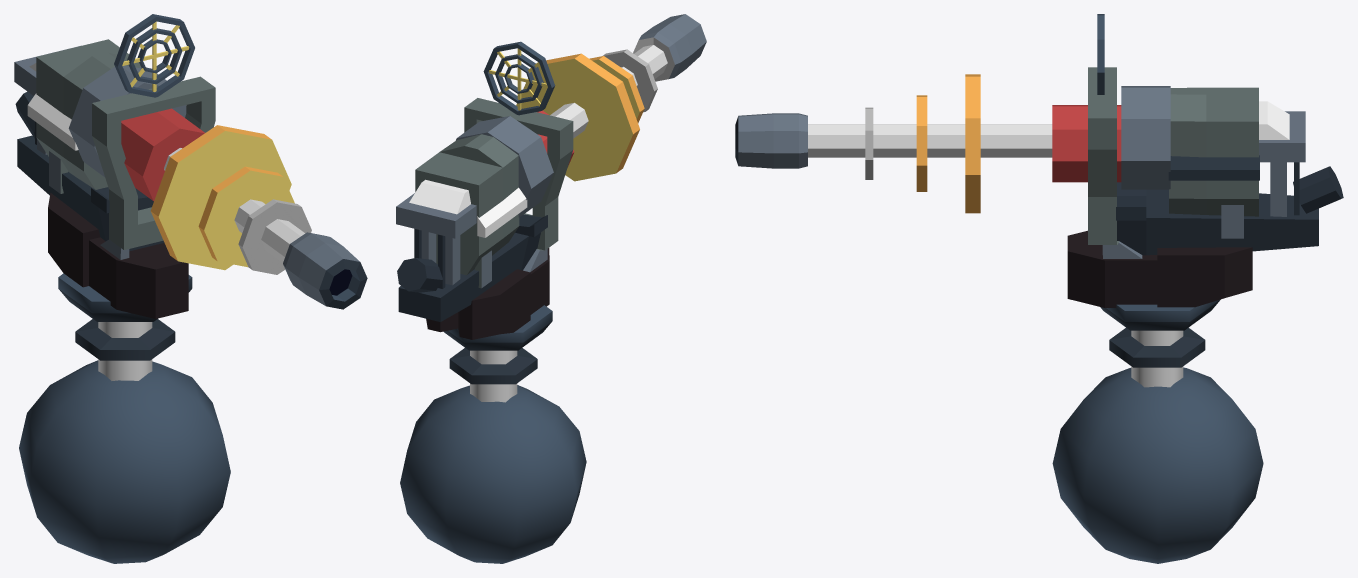
Rendered from LaserTurret_Idle.fbx.
The picture shows the model from 3 angles, left to right: view 1: azimuth 30°, elevation 25°; view 2: azimuth 150°, elevation 25°; view 3: azimuth 270°, elevation 25°; orthographic projection. The views are drawn at different scales.
Visible parts, largest first — view 1: Turret_Wheel, Turret_Main, polySurface1, polySurface2, polySurface4, polySurface3, Turret_Sight, polySurface5; view 2: Turret_Main, Turret_Wheel, polySurface1, polySurface2, Turret_Sight, polySurface5, polySurface4; view 3: Turret_Main, Turret_Wheel, polySurface2, polySurface3, polySurface1, polySurface4.
Boxes of the visible parts, x1,y1,x2,y2 form: Turret_Wheel: (19, 273, 230, 563); Turret_Main: (14, 39, 215, 318); polySurface1: (150, 125, 291, 270); polySurface2: (164, 148, 367, 309); polySurface4: (198, 166, 294, 267); polySurface3: (121, 108, 204, 201); Turret_Sight: (114, 14, 194, 97); polySurface5: (238, 199, 311, 274); Turret_Main: (396, 98, 573, 339); Turret_Wheel: (400, 305, 586, 563); polySurface1: (516, 53, 639, 181); polySurface2: (550, 14, 706, 138); Turret_Sight: (483, 41, 555, 115); polySurface5: (603, 49, 657, 112); polySurface4: (589, 56, 644, 123); Turret_Main: (1067, 67, 1343, 307); Turret_Wheel: (1052, 299, 1263, 563); polySurface2: (735, 113, 1052, 168); polySurface3: (1052, 105, 1121, 182); polySurface1: (965, 74, 980, 213); polySurface4: (916, 95, 927, 191).
Size of the model in its own units: 646 by 1819 by 1863.
